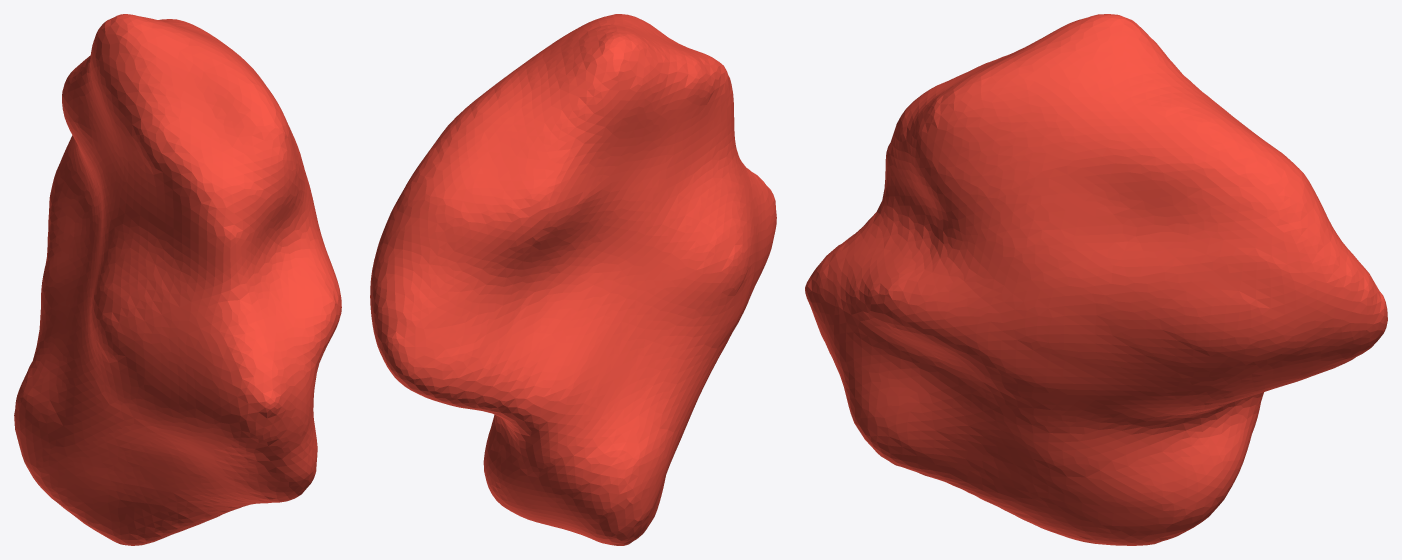
The model's file is case_28_stroke.gltf.
3 renders of one model, left to right at view 1: azimuth 30°, elevation 25°; view 2: azimuth 150°, elevation 25°; view 3: azimuth 270°, elevation 25°, orthographic. The views are drawn at different scales.
Parts seen in each view (by area): view 1: stroke; view 2: stroke; view 3: stroke.
Boxes of the visible parts, x1=… form: stroke: x1=14, y1=14, x2=341, y2=545; stroke: x1=370, y1=14, x2=776, y2=545; stroke: x1=805, y1=14, x2=1387, y2=545.
Size of the model in its own units: 0.964 by 1.94 by 1.97.
